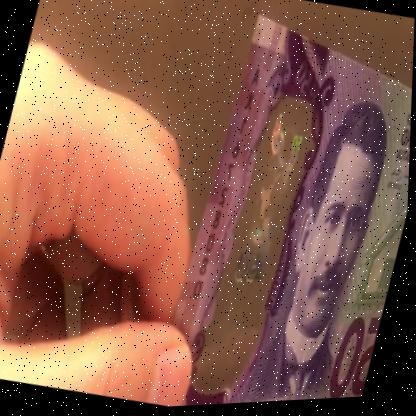50F: (207, 103, 318, 373)
